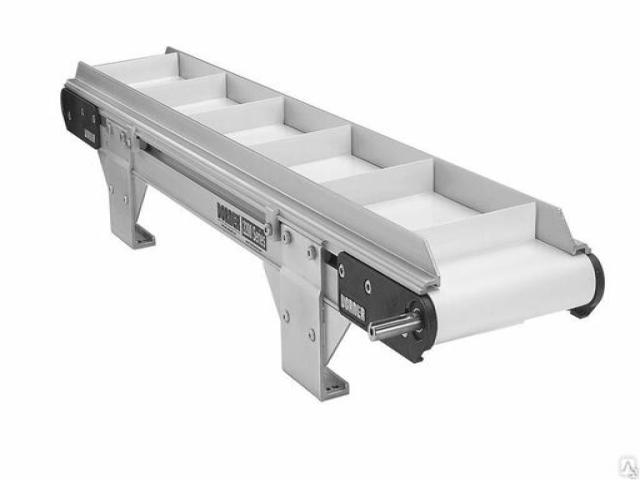conveyor: (56, 44, 606, 402)
